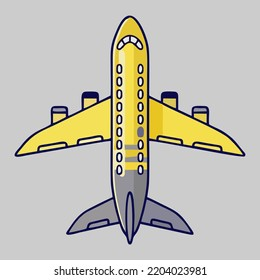airplane: (11, 14, 248, 244)
